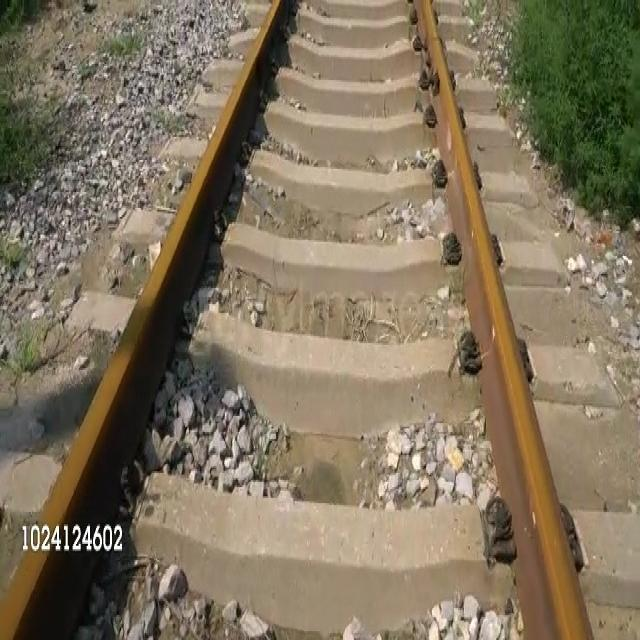Plant: (505, 0, 639, 220), (0, 99, 39, 182), (10, 330, 50, 375), (107, 35, 143, 58), (2, 0, 26, 31), (2, 247, 24, 272)
